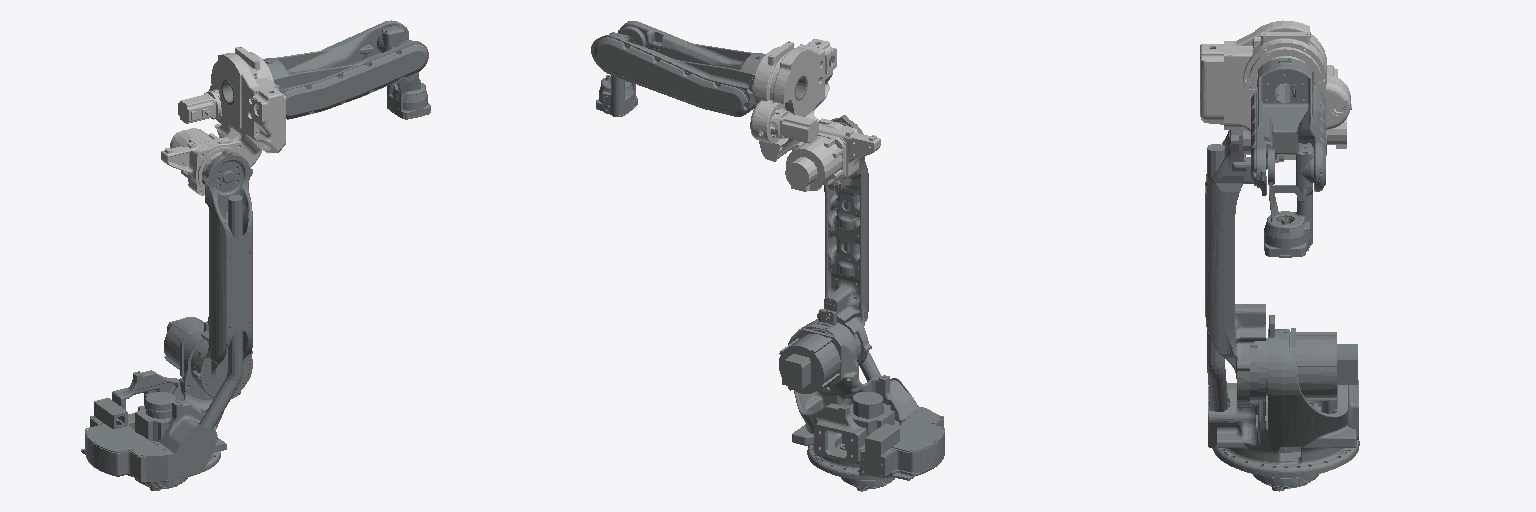
URDF robot description (MA1400):
<robot
  name="MA1400">
  <link name="world" />
  <link
    name="base_link">
    <inertial>
      <origin
        xyz="0.0659 0.0031108 0.04815"
        rpy="0 0 0" />
      <mass
        value="22.072" />
      <inertia
        ixx="0.50652"
        ixy="-0.0073335"
        ixz="-0.028252"
        iyy="0.36205"
        iyz="-0.010806"
        izz="0.24865" />
    </inertial>
    <visual>
      <origin
        xyz="0 0 0"
        rpy="0 0 0" />
      <geometry>
        <mesh
          filename="package://ma1400_sim/meshes/base_link.stl" />
      </geometry>
      <material
        name="Cast Carbon Steal">
        <color
          rgba="0.52941 0.54902 0.54902 1" />
      </material>
    </visual>
    <collision>
      <origin
        xyz="0 0 0"
        rpy="0 0 0" />
      <geometry>
        <mesh
          filename="package://ma1400_sim/meshes/base_link.stl" />
      </geometry>
    </collision>
  </link>
  <link
    name="s_link">
    <inertial>
      <origin
        xyz="0.062654 -0.0075772 -0.0043747"
        rpy="0 0 0" />
      <!-- <mass
        value="0.03685" />
      <inertia
        ixx="6.5524E-05"
        ixy="-1.7002E-17"
        ixz="-6.5895E-18"
        iyy="4.591E-05"
        iyz="-5.1266E-06"
        izz="2.2509E-05" />
    </inertial> -->
    <!-- Taken from previous link, temporary! -->
      <mass
        value="22.072" />
      <inertia
        ixx="0.50652"
        ixy="-0.0073335"
        ixz="-0.028252"
        iyy="0.36205"
        iyz="-0.010806"
        izz="0.24865" />
    </inertial>
    <visual>
      <origin
        xyz="0 0 0"
        rpy="0 0 0" />
      <geometry>
        <mesh
          filename="package://ma1400_sim/meshes/s_link.stl" />
      </geometry>
      <material
        name="Cast Carbon Steal">
        <color
          rgba="0.52941 0.54902 0.54902 1" />
      </material>
    </visual>
    <collision>
      <origin
        xyz="0 0 0"
        rpy="0 0 0" />
      <geometry>
        <mesh
          filename="package://ma1400_sim/meshes/s_link.stl" />
      </geometry>
    </collision>
  </link>
  <joint
    name="world2base"
    type="revolute">
    <origin
      xyz="0 0 0"
      rpy="0 -1.57079632679 0" />
    <parent
      link="world" />
    <child
      link="base_link" />
    <axis
      xyz="0 0 1" />
    <limit
      lower="0"
      upper="0"
      effort="0"
      velocity="0" />
  </joint>
  <joint
    name="base2s"
    type="revolute">
    <origin
      xyz="0.0875 0 0"
      rpy="0 0 0" />
    <parent
      link="base_link" />
    <child
      link="s_link" />
    <axis
      xyz="1 0 0" />
    <limit
      lower="-2.9671"
      upper="2.9671"
      effort="0"
      velocity="3.8397" />
  </joint>
  <link
    name="l_link">
    <inertial>
      <origin
        xyz="0.069501 0.26438 -9.7345E-05"
        rpy="0 0 0" />
      <mass
        value="30.269" />
      <inertia
        ixx="1.2747"
        ixy="-0.047351"
        ixz="-0.00033135"
        iyy="0.070602"
        iyz="0.00061639"
        izz="1.2616" />
    </inertial>
    <visual>
      <origin
        xyz="0 0 0"
        rpy="0 0 0" />
      <geometry>
        <mesh
          filename="package://ma1400_sim/meshes/l_link.stl" />
      </geometry>
      <material
        name="Cast Carbon Steal">
        <color
          rgba="0.52941 0.54902 0.54902 1" />
      </material>
    </visual>
    <collision>
      <origin
        xyz="0 0 0"
        rpy="0 0 0" />
      <geometry>
        <mesh
          filename="package://ma1400_sim/meshes/l_link.stl" />
      </geometry>
    </collision>
  </link>
  <joint
    name="s2l"
    type="revolute">
    <origin
      xyz="0.3705 -0.0655 -0.15"
      rpy="-9.0409E-17 0 -1.5708" />
    <parent
      link="s_link" />
    <child
      link="l_link" />
    <axis
      xyz="-1 0 0" />
    <limit
      lower="-1.5708"
      upper="2.70526"
      effort="0"
      velocity="3.49066" />
  </joint>
  <link
    name="u_link">
    <inertial>
      <origin
        xyz="0.10628 -0.068994 -0.050692"
        rpy="0 0 0" />
      <mass
        value="48.603" />
      <inertia
        ixx="0.67103"
        ixy="-0.023573"
        ixz="-0.022912"
        iyy="0.50654"
        iyz="-0.20689"
        izz="0.68713" />
    </inertial>
    <visual>
      <origin
        xyz="0 0 0"
        rpy="0 0 0" />
      <geometry>
        <mesh
          filename="package://ma1400_sim/meshes/u_link.stl" />
      </geometry>
      <material
        name="Cast Carbon Steal">
        <color
          rgba="0.75294 0.75294 0.75294 1" />
      </material>
    </visual>
    <collision>
      <origin
        xyz="0 0 0"
        rpy="0 0 0" />
      <geometry>
        <mesh
          filename="package://ma1400_sim/meshes/u_link.stl" />
      </geometry>
    </collision>
  </link>
  <joint
    name="l2u"
    type="revolute">
    <origin
      xyz="0.0445 0.614 0"
      rpy="-9.0409E-17 0 3.1416" />
    <parent
      link="l_link" />
    <child
      link="u_link" />
    <axis
      xyz="1 0 0" />
    <limit
      lower="-3.31613"
      upper="3.05433"
      effort="0"
      velocity="3.83972" />
  </joint>
  <link
    name="r_link">
    <inertial>
      <origin
        xyz="0.2743 0.0044679 -0.016296"
        rpy="0 0 0" />
      <mass
        value="13.33" />
      <inertia
        ixx="0.056428"
        ixy="-0.0016495"
        ixz="0.0069738"
        iyy="0.37608"
        iyz="0.00075742"
        izz="0.38768" />
    </inertial>
    <visual>
      <origin
        xyz="0 0 0"
        rpy="0 0 0" />
      <geometry>
        <mesh
          filename="package://ma1400_sim/meshes/r_link.stl" />
      </geometry>
      <material
        name="Cast Carbon Steal">
        <color
          rgba="0.52941 0.54902 0.54902 1" />
      </material>
    </visual>
    <collision>
      <origin
        xyz="0 0 0"
        rpy="0 0 0" />
      <geometry>
        <mesh
          filename="package://ma1400_sim/meshes/r_link.stl" />
      </geometry>
    </collision>
  </link>
  <joint
    name="u2r"
    type="revolute">
    <origin
      xyz="0.109 -0.2 -0.069"
      rpy="1.5708 1.5708 0" />
    <parent
      link="u_link" />
    <child
      link="r_link" />
    <axis
      xyz="1 0 0" />
    <limit
      lower="-2.61799"
      upper="2.61799"
      effort="14"
      velocity="3.22886" />
  </joint>
  <link
    name="b_link">
    <inertial>
      <origin
        xyz="0.056214 0.092191 0.012761"
        rpy="0 0 0" />
      <mass
        value="4.0209" />
      <inertia
        ixx="0.024141"
        ixy="-0.0015461"
        ixz="-0.00057354"
        iyy="0.0086318"
        iyz="-0.0030317"
        izz="0.026048" />
    </inertial>
    <visual>
      <origin
        xyz="0 0 0"
        rpy="0 0 0" />
      <geometry>
        <mesh
          filename="package://ma1400_sim/meshes/b_link.stl" />
      </geometry>
      <material
        name="Cast Carbon Steal">
        <color
          rgba="0.52941 0.54902 0.54902 1" />
      </material>
    </visual>
    <collision>
      <origin
        xyz="0 0 0"
        rpy="0 0 0" />
      <geometry>
        <mesh
          filename="package://ma1400_sim/meshes/b_link.stl" />
      </geometry>
    </collision>
  </link>
  <joint
    name="r2b"
    type="revolute">
    <origin
      xyz="0.571 0.07 0"
      rpy="-1.5708 0 -1.5708" />
    <parent
      link="r_link" />
    <child
      link="b_link" />
    <axis
      xyz="-1 0 0" />
    <limit
      lower="-0.785398"
      upper="3.14159"
      effort="14"
      velocity="2.86234" />
  </joint>
  <link
    name="t_link">
    <inertial>
      <origin
        xyz="0.041051 -1.0193E-05 -1.6479E-05"
        rpy="0 0 0" />
      <mass
        value="1.3027" />
      <inertia
        ixx="0.0012142"
        ixy="-5.0796E-07"
        ixz="1.2468E-06"
        iyy="0.0011156"
        iyz="2.6778E-06"
        izz="0.0011096" />
    </inertial>
    <visual>
      <origin
        xyz="0 0 0"
        rpy="0 0 0" />
      <geometry>
        <mesh
          filename="package://ma1400_sim/meshes/t_link.stl" />
      </geometry>
      <material
        name="Cast Carbon Steal">
        <color
          rgba="0.52941 0.54902 0.54902 1" />
      </material>
    </visual>
    <collision>
      <origin
        xyz="0 0 0"
        rpy="0 0 0" />
      <geometry>
        <mesh
          filename="package://ma1400_sim/meshes/t_link.stl" />
      </geometry>
    </collision>
  </link>
  <joint
    name="b2t"
    type="revolute">
    <origin
      xyz="0.07 0.1265 0.03"
      rpy="0 0 1.5708" />
    <parent
      link="b_link" />
    <child
      link="t_link" />
    <axis
      xyz="-1 0 0" />
    <limit
      lower="-3.49066"
      upper="3.49066"
      effort="0.98"
      velocity="10.6465" />
  </joint>

  <transmission name="base2s_trans">
    <type>transmission_interface/SimpleTransmission</type>
    <actuator name="$base2s_motor">
      <mechanicalReduction>1</mechanicalReduction>
    </actuator>
    <joint name="base2s">
      <hardwareInterface>PositionJointInterface</hardwareInterface>
    </joint>
  </transmission>
</robot>

--- Facts derived from the render (not from the file) ---
3 views of the same robot in one strip: view 1: azimuth 30°, elevation 25°; view 2: azimuth 150°, elevation 25°; view 3: azimuth 270°, elevation 25° (orthographic).
Model MA1400 with 8 links and 7 joints (7 revolute), rooted at world, posed every joint at zero.
Links seen in each view (by area): view 1: s_link, l_link, u_link, r_link, b_link; view 2: s_link, u_link, r_link, l_link, b_link; view 3: s_link, l_link, u_link, r_link, b_link.
Boxes of the visible links, x1=… form: s_link: x1=81, y1=317, x2=242, y2=490; l_link: x1=192, y1=149, x2=252, y2=398; u_link: x1=161, y1=47, x2=285, y2=195; r_link: x1=221, y1=20, x2=428, y2=119; b_link: x1=377, y1=26, x2=430, y2=119; s_link: x1=779, y1=309, x2=944, y2=491; u_link: x1=750, y1=39, x2=880, y2=191; r_link: x1=591, y1=21, x2=807, y2=116; l_link: x1=815, y1=115, x2=871, y2=365; b_link: x1=596, y1=26, x2=645, y2=116; s_link: x1=1207, y1=315, x2=1359, y2=491; l_link: x1=1205, y1=130, x2=1265, y2=407; u_link: x1=1200, y1=20, x2=1351, y2=162; r_link: x1=1251, y1=58, x2=1325, y2=195; b_link: x1=1264, y1=143, x2=1313, y2=257.
Size in the robot's own frame: 1.09 by 0.3715 by 1.29 metres.
Meshes: 7 distinct files referenced, 6 mesh visuals loaded (6 binary STL); not drawn: 1 (reference not matched to a file when rendering).
